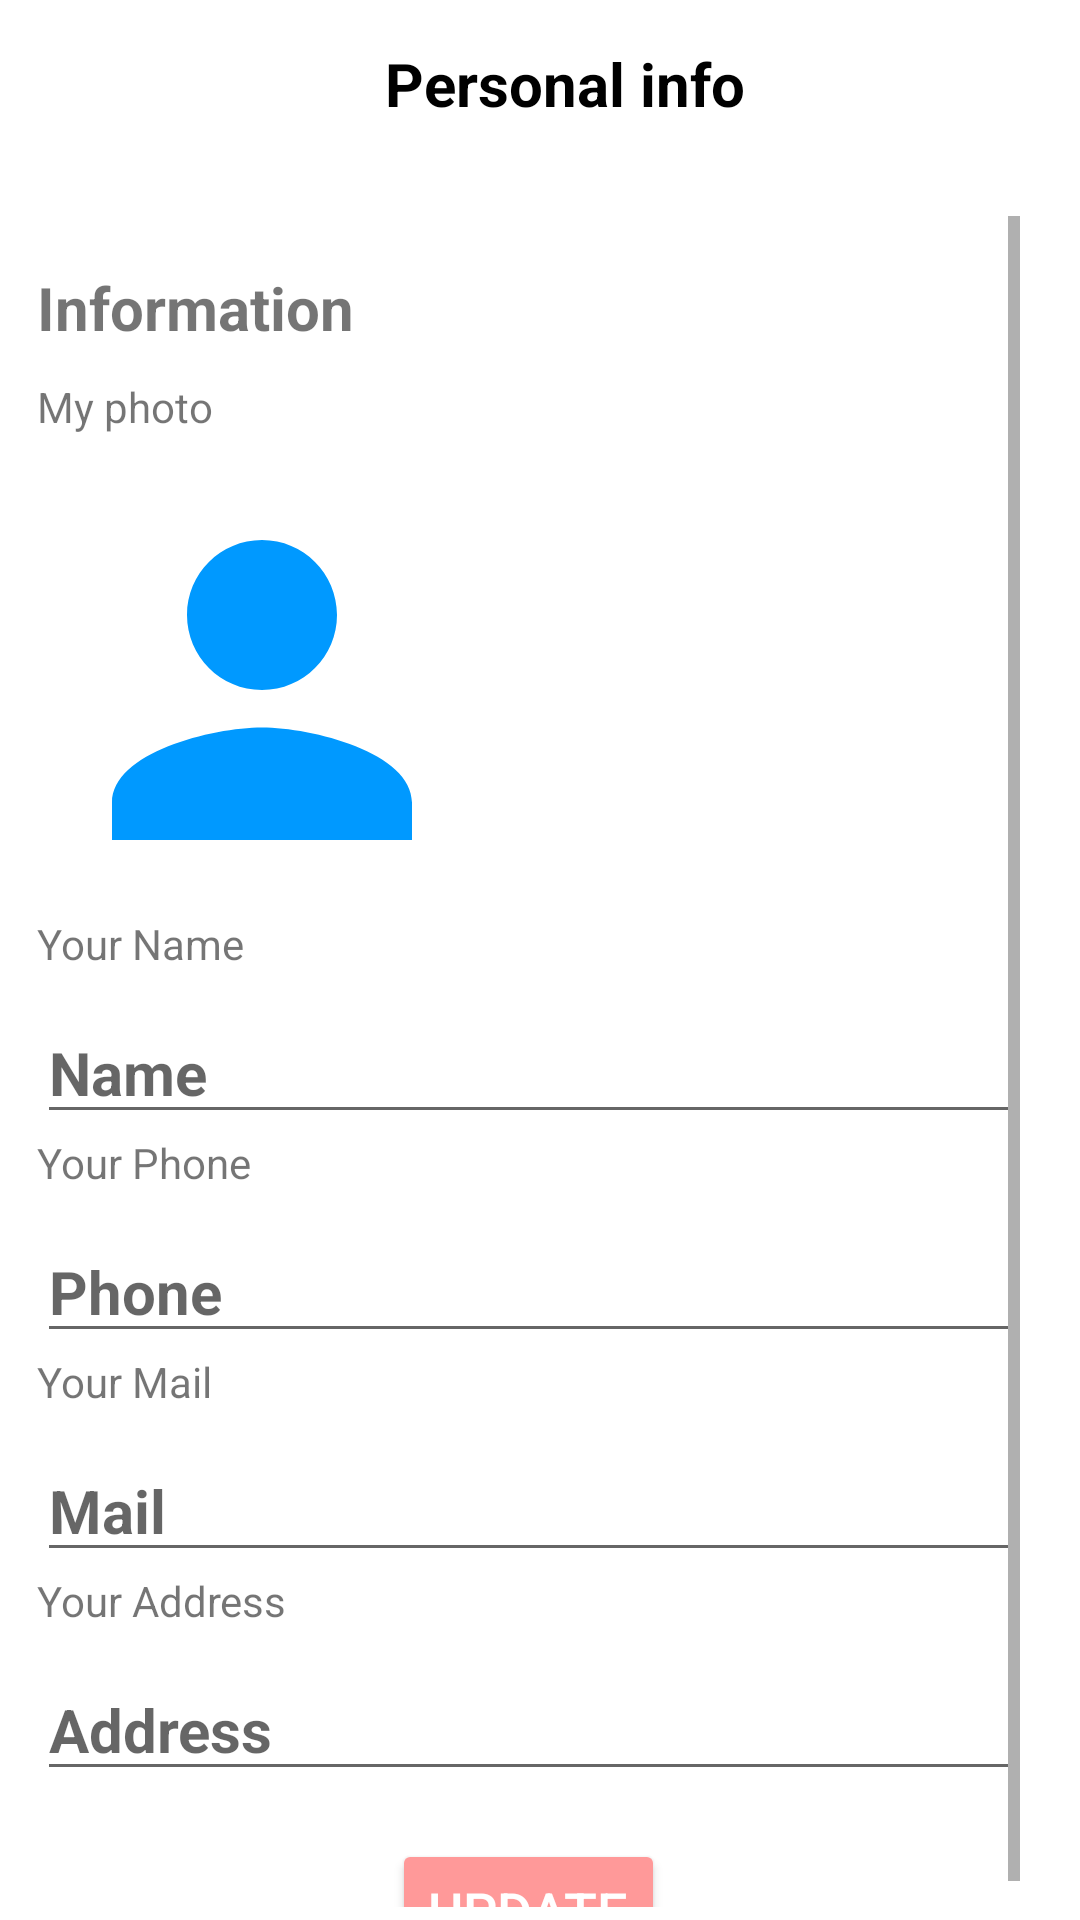

Where icons sit on this 1080x1920 app screen, as [x1,y1,x2,y2]:
person: [112,540,412,840]
